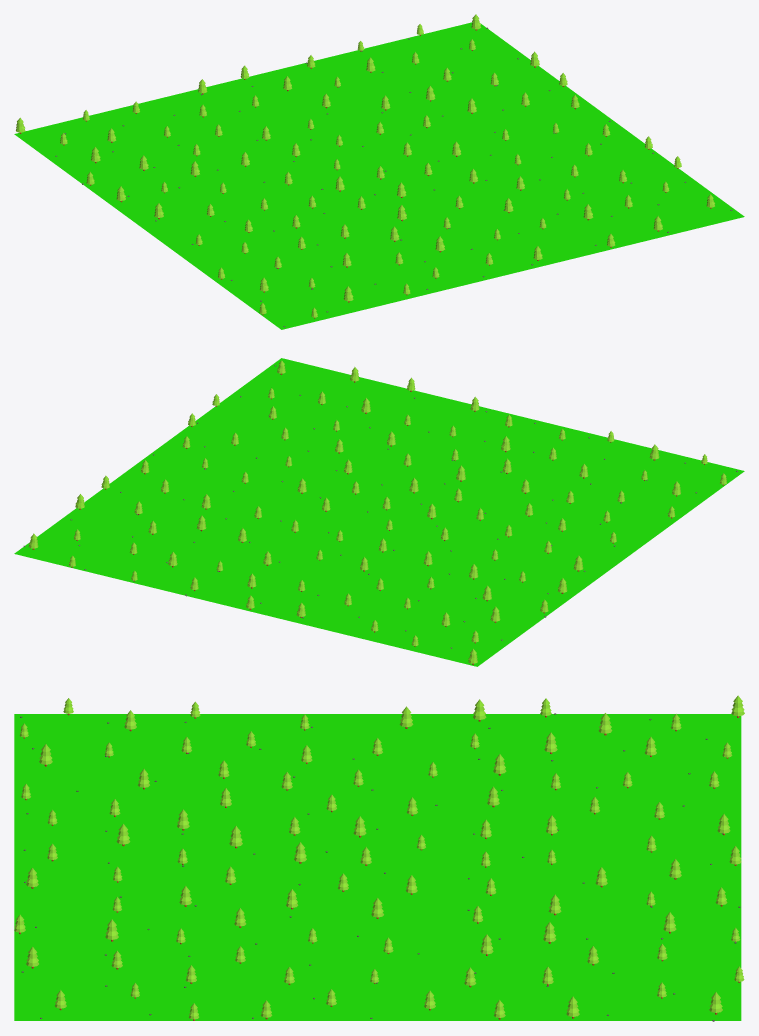
The model's file is MAp.fbx.
3 renders of one model, top to bottom at view 1: azimuth 30°, elevation 25°; view 2: azimuth 150°, elevation 25°; view 3: azimuth 270°, elevation 25°, orthographic. The views are drawn at different scales.
Visible parts, largest first — view 1: Plane; view 2: Plane; view 3: Plane.
Part boxes in pixels (<box>): Plane: <box>14,14,744,329</box>; Plane: <box>14,358,744,666</box>; Plane: <box>14,695,744,1021</box>.
Bounding box in the file's own units: 100515 × 3519 × 100113.
